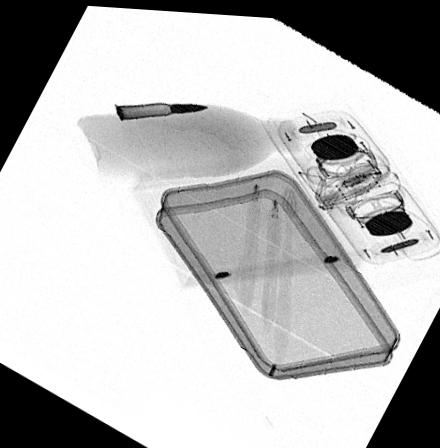Bullet: (115, 100, 209, 120)
